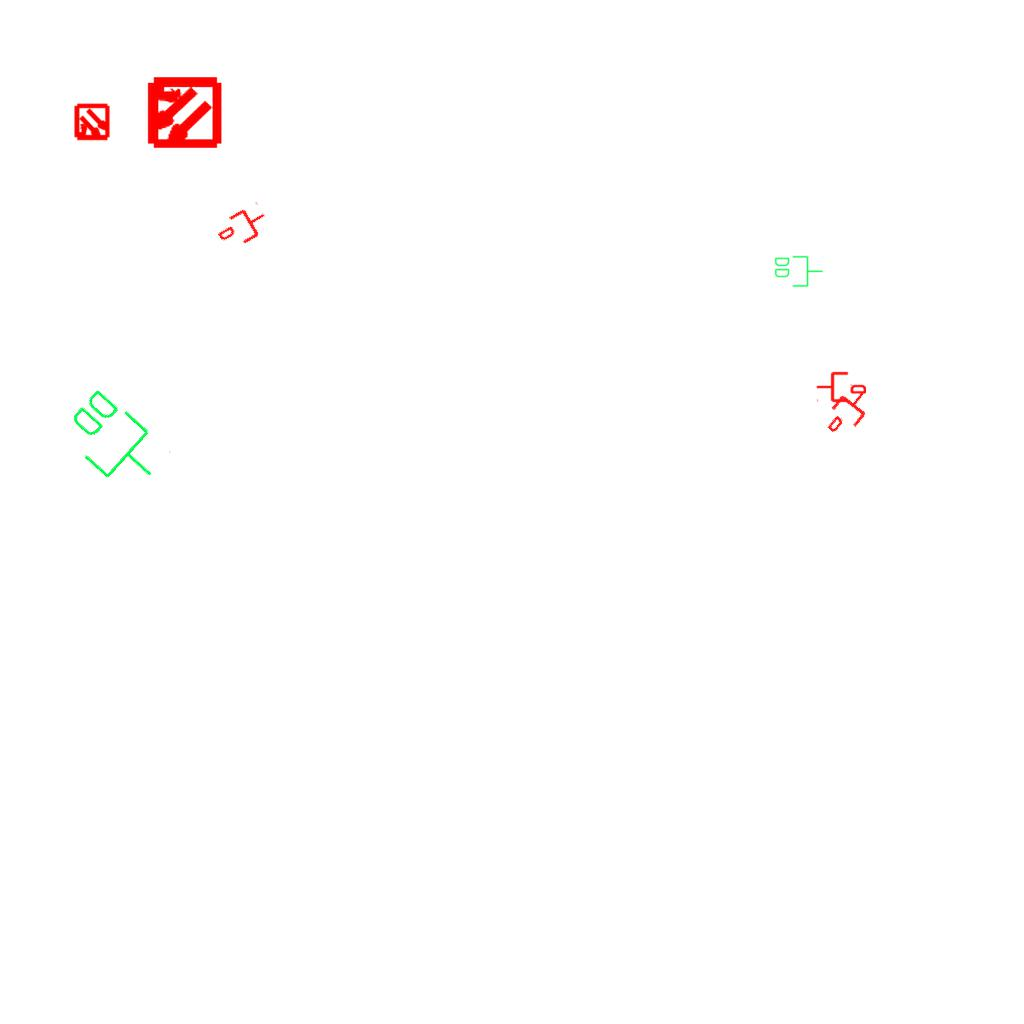Datenanschluss_einfach: (819, 381, 877, 443), (212, 199, 274, 255), (816, 370, 866, 404)
Datenanschluss_zweifach: (53, 381, 176, 502), (773, 254, 824, 288)
OT_Multisensormelder_(Kombination_RMO_WMD): (126, 56, 239, 169), (64, 95, 120, 151)
